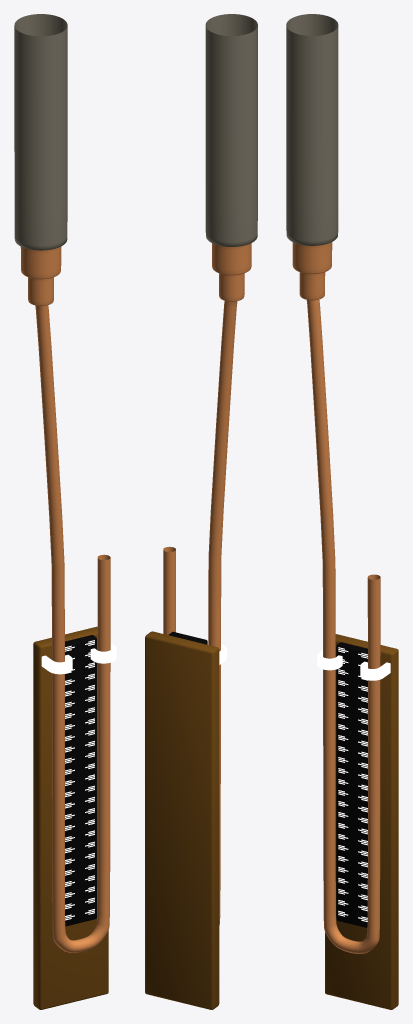
The model's file is 测压装置.glb.
3 renders of one model, left to right at view 1: azimuth 30°, elevation 25°; view 2: azimuth 150°, elevation 25°; view 3: azimuth 330°, elevation 25°, orthographic.
Visible parts, largest first — view 1: 圆环.280, 34测压装置, 平面.143, 平面.144; view 2: 34测压装置, 圆环.280; view 3: 圆环.280, 34测压装置, 平面.143, 平面.144.
Part boxes in pixels (x1,y1,x2,y2): 圆环.280: [14, 14, 110, 952]; 34测压装置: [33, 626, 108, 1009]; 平面.143: [65, 635, 96, 926]; 平面.144: [41, 643, 116, 674]; 34测压装置: [145, 631, 219, 1009]; 圆环.280: [163, 14, 257, 925]; 圆环.280: [286, 14, 380, 953]; 34测压装置: [325, 634, 398, 1009]; 平面.143: [336, 642, 367, 927]; 平面.144: [317, 650, 390, 680].
Bounding box in the file's own units: 0.1351 × 1.31 × 0.0651.
